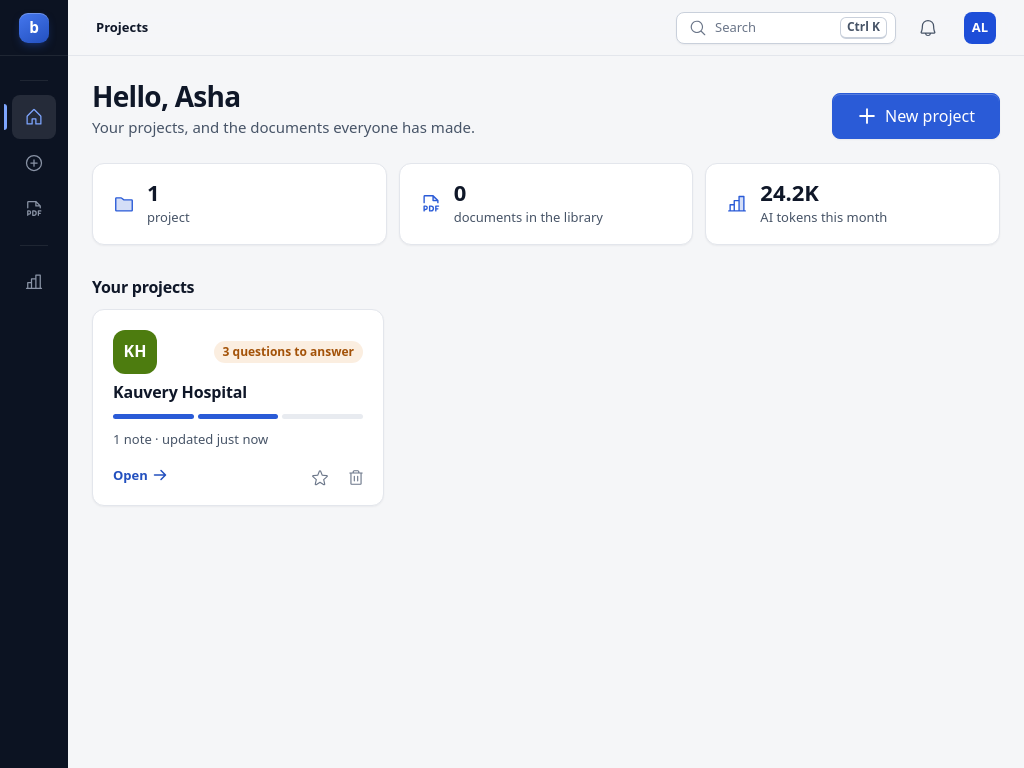
Test case: changing your own password › is in the account menu for a user, and needs the current password and a good new one typed twice
Click the button with aria-label "Account menu" at (980, 28), box [960,8,1000,48]
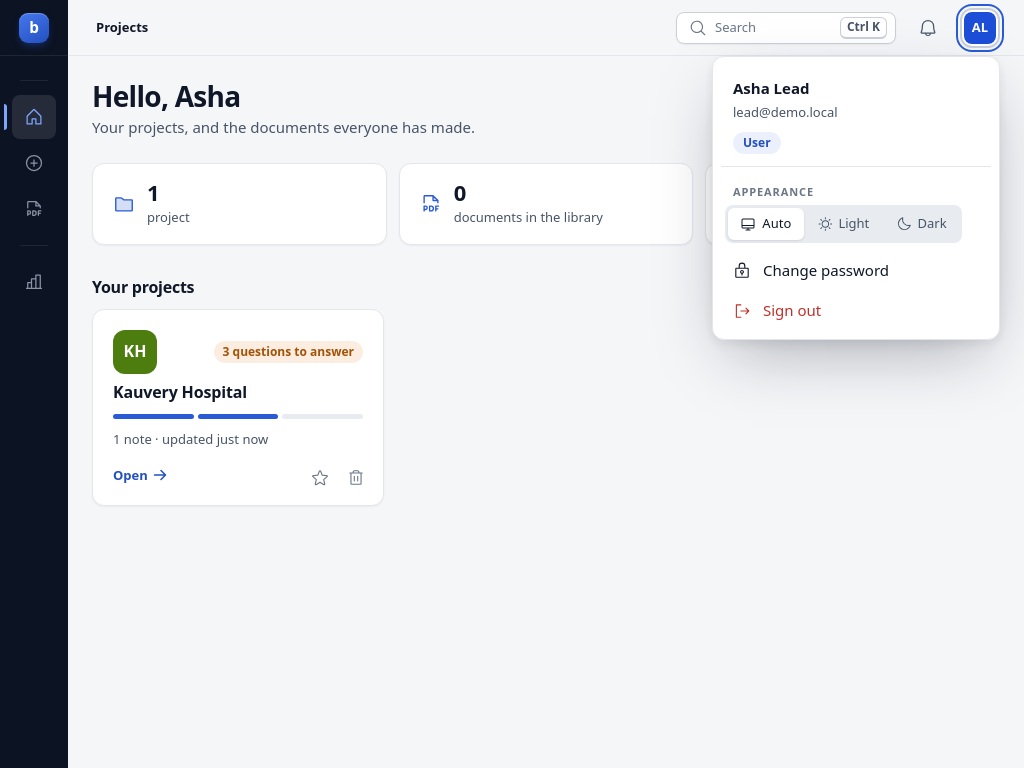
Click the menu item "Change password" at (856, 270), box [721,250,991,290]
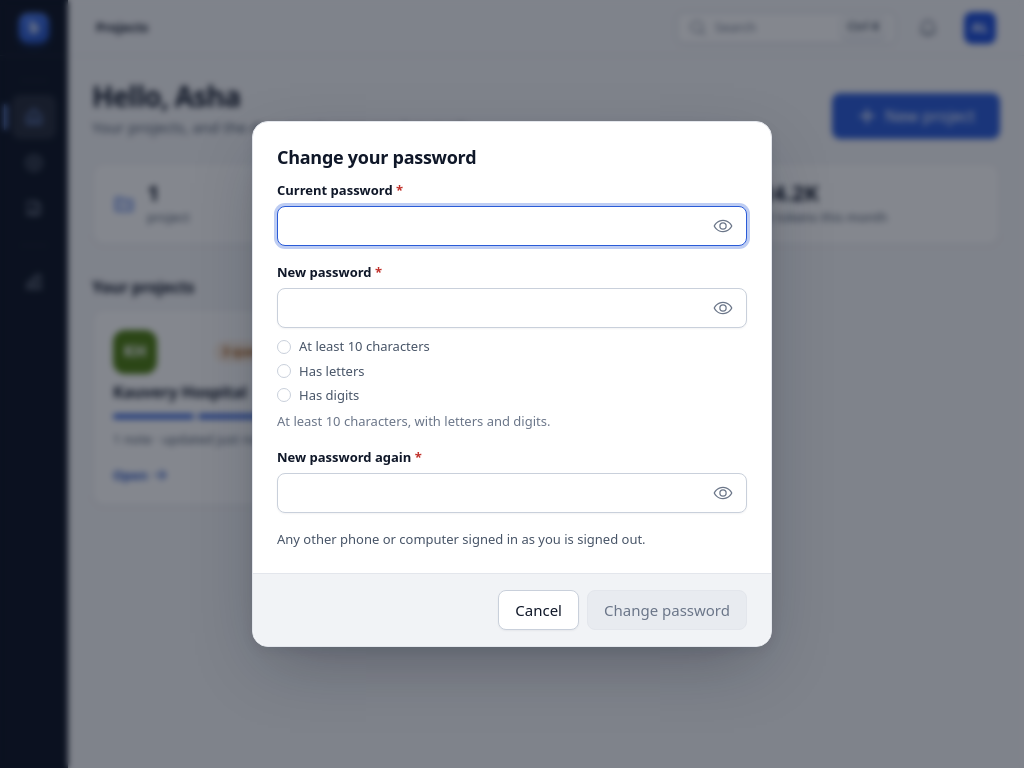
Check: the button "Change password" is disabled, box [587,590,747,630]
Type "Old-Passw0rd-1" into the password field labelled "Current password" at (512, 226), box [277,206,747,246]
Type "short1" into the password field labelled "New password" at (512, 308), box [277,288,747,328]
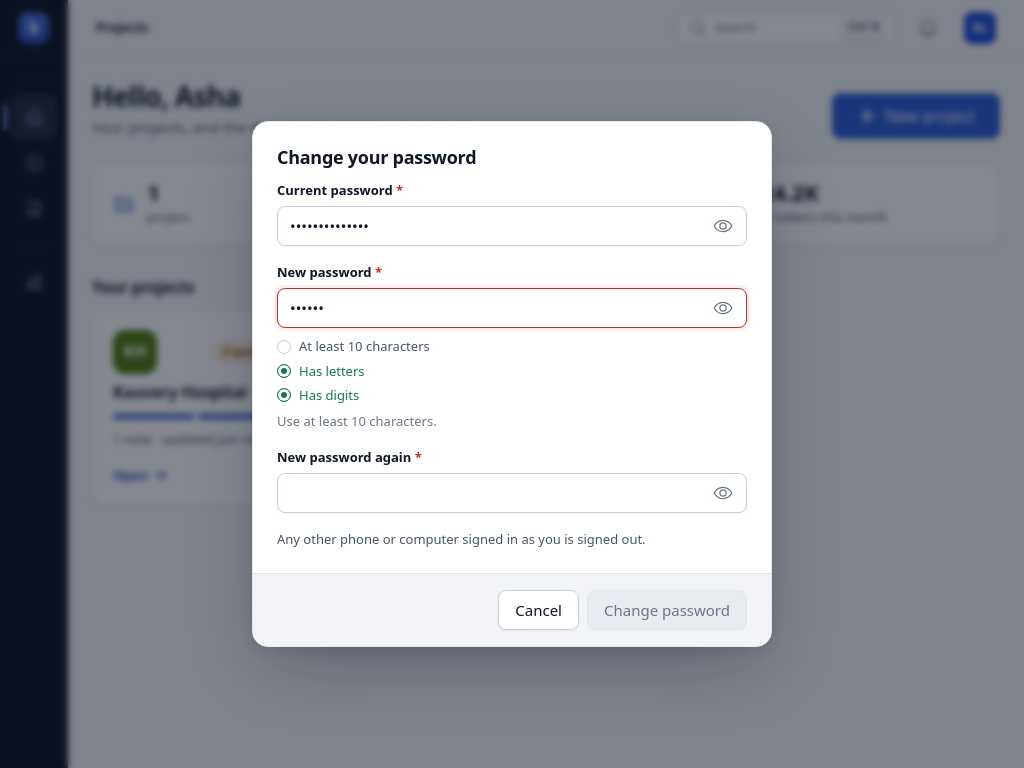
Check: the text "Use at least 10 characters." is shown, box [277,412,437,430]
Type "onlyletterspassword" into the password field labelled "New password" at (512, 308), box [277,288,747,328]
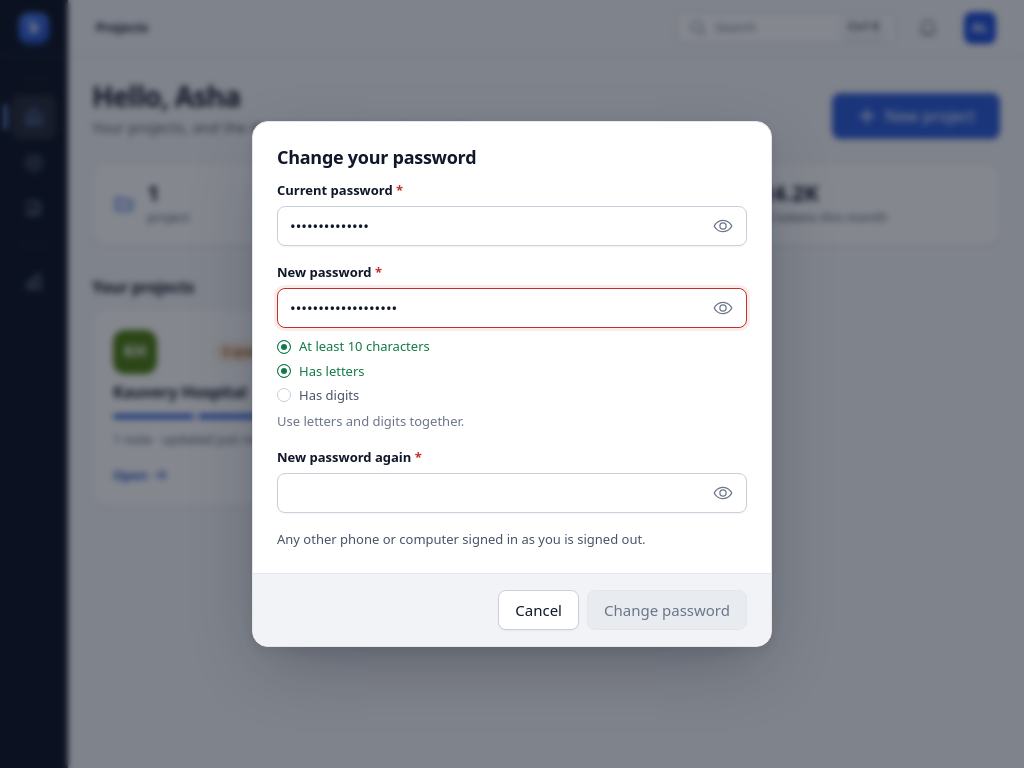
Check: the text "Use letters and digits together." is shown, box [277,412,464,430]
Type "New-Passw0rd-123" into the password field labelled "New password" at (512, 308), box [277,288,747,328]
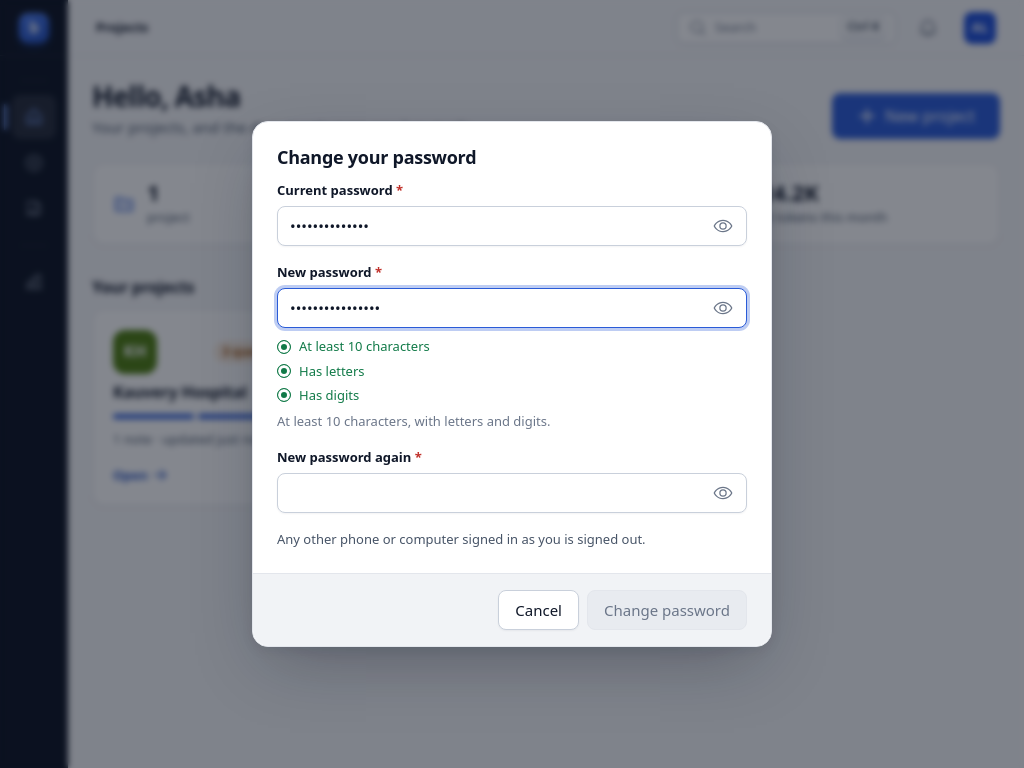
Type "New-Passw0rd-12" into the password field labelled "New password again" at (512, 493), box [277,473,747,513]
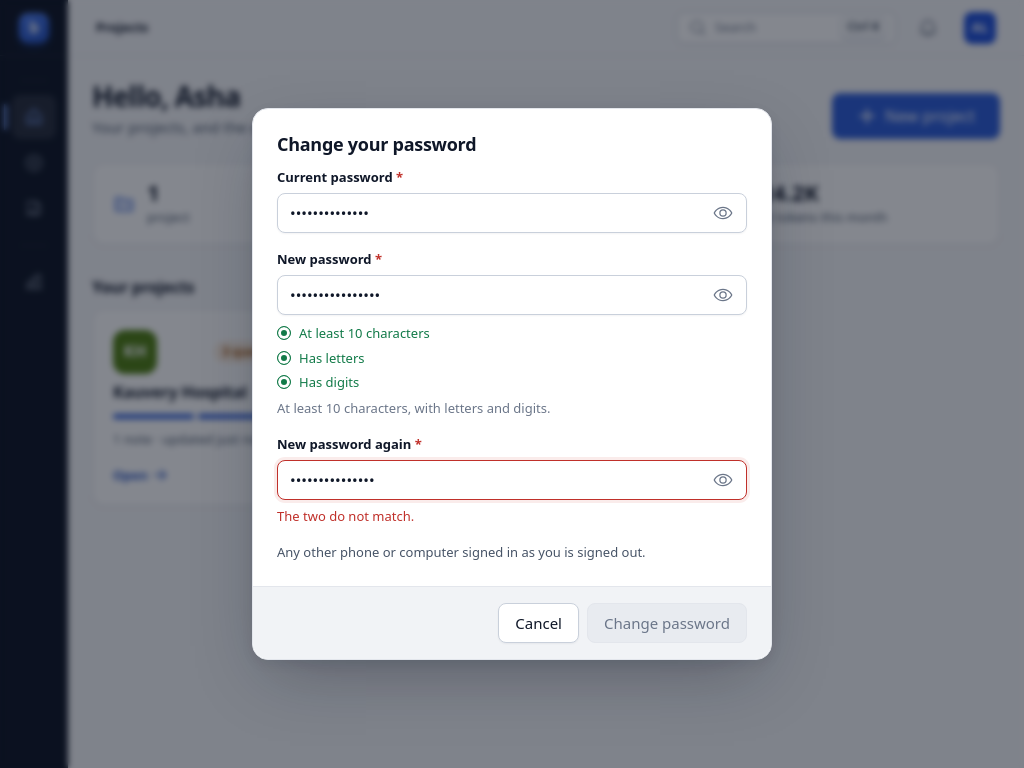
Check: the text "The two do not match." is shown, box [277,507,414,525]
